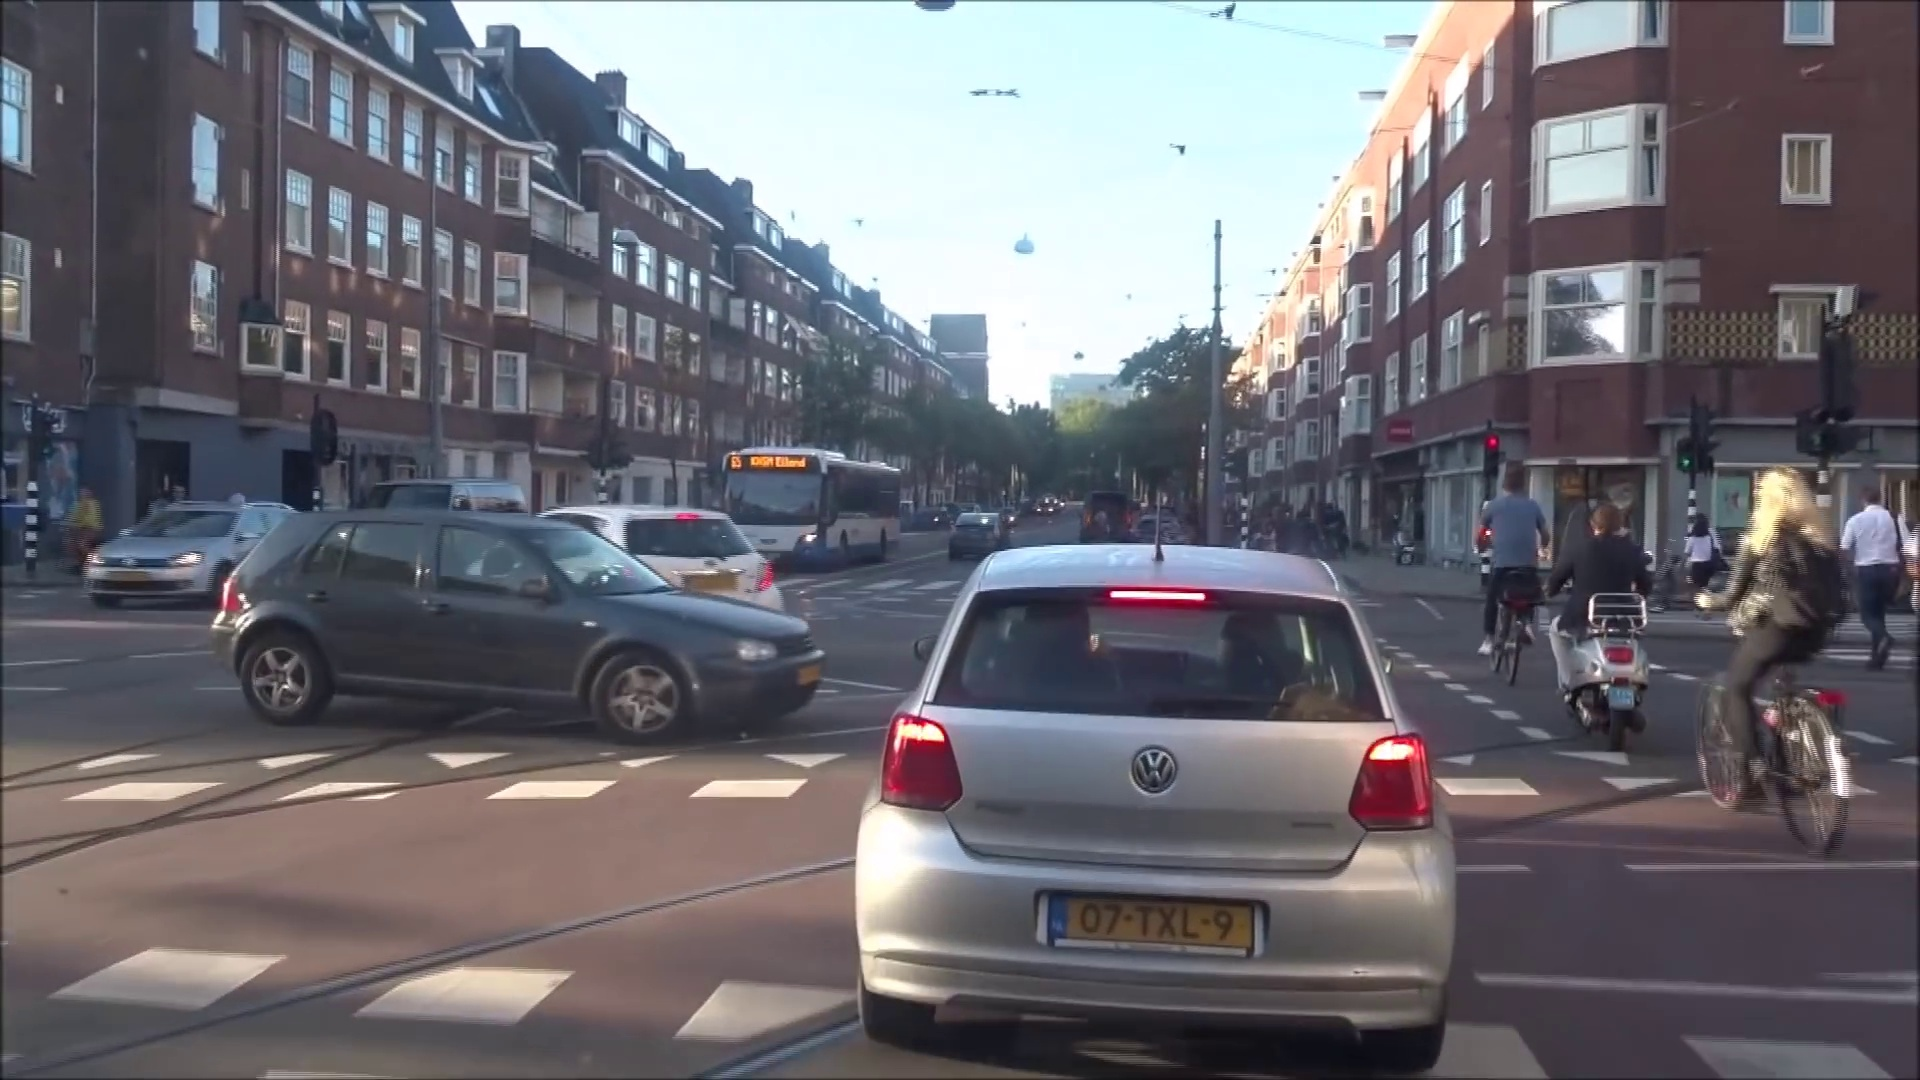cyclist_back: (1696, 465, 1867, 865), (1542, 501, 1656, 764), (1467, 475, 1547, 693)
